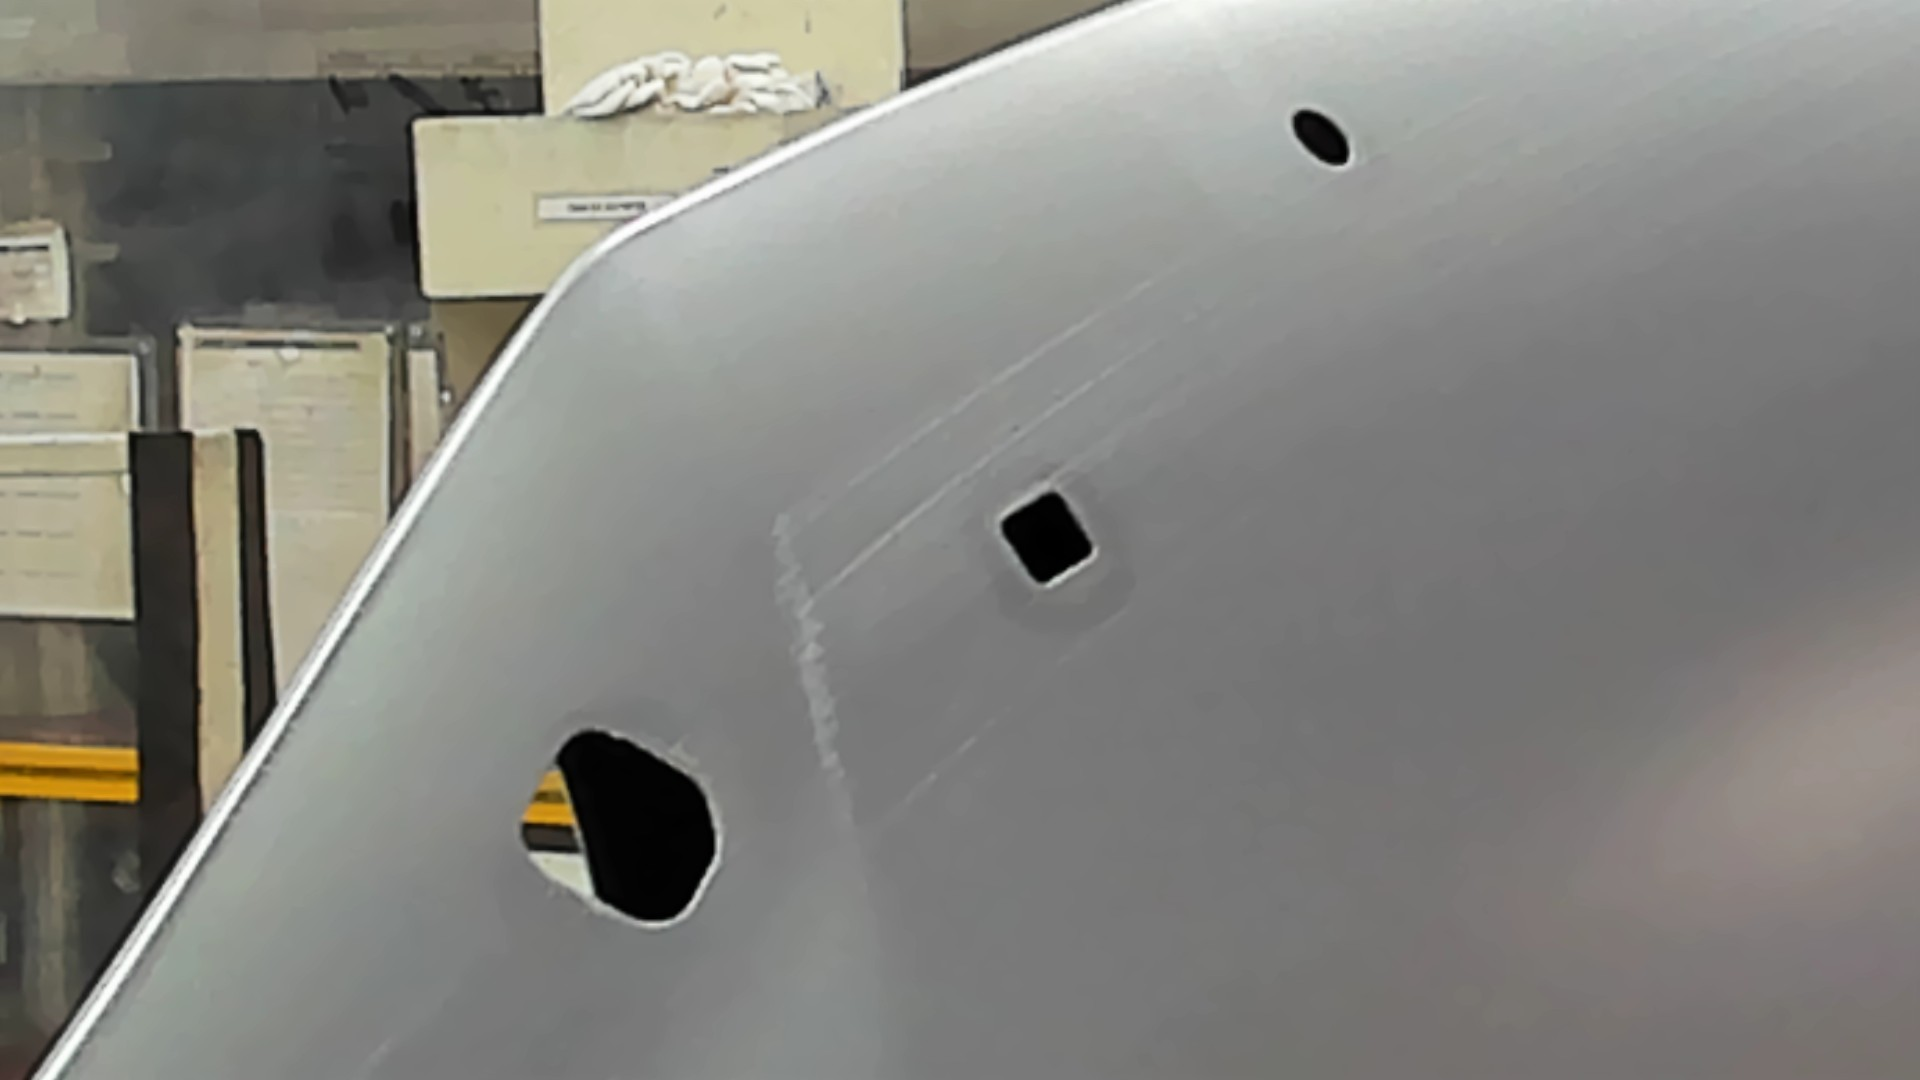capo: (1108, 171, 1920, 1080)
chico: (1286, 102, 1356, 170)
grande: (513, 720, 725, 940)
mediano: (988, 483, 1100, 595)
